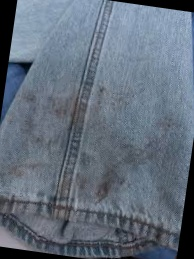earth: (46, 91, 93, 126), (72, 171, 114, 200), (10, 164, 24, 178)
